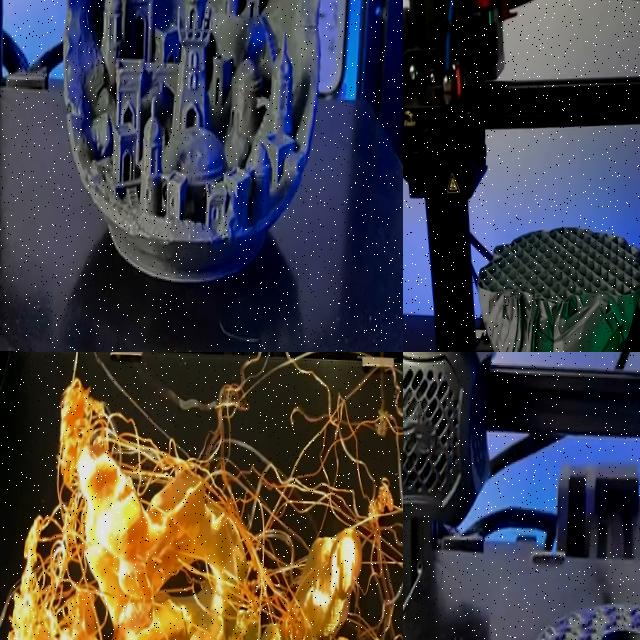spaghetti: (0, 352, 403, 640)
